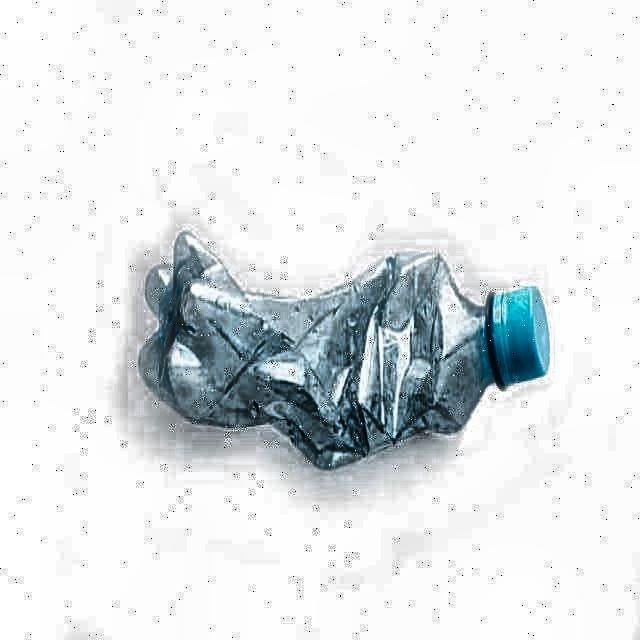plastic: (138, 233, 548, 468)
